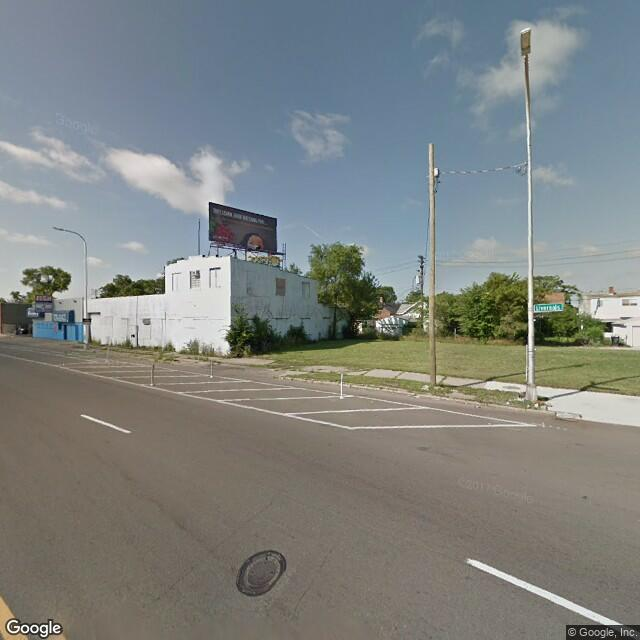litter: (532, 401, 539, 411), (525, 401, 528, 410), (505, 400, 511, 404)
